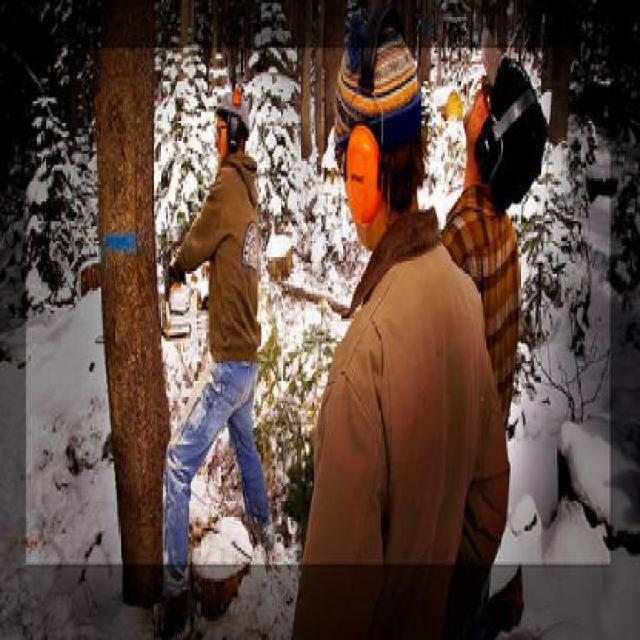Chainsaw: (93, 265, 209, 344)
